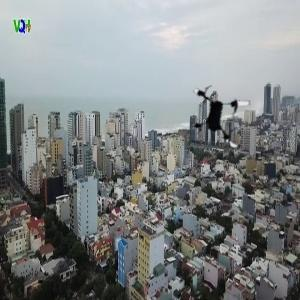drone: (186, 79, 261, 154)
